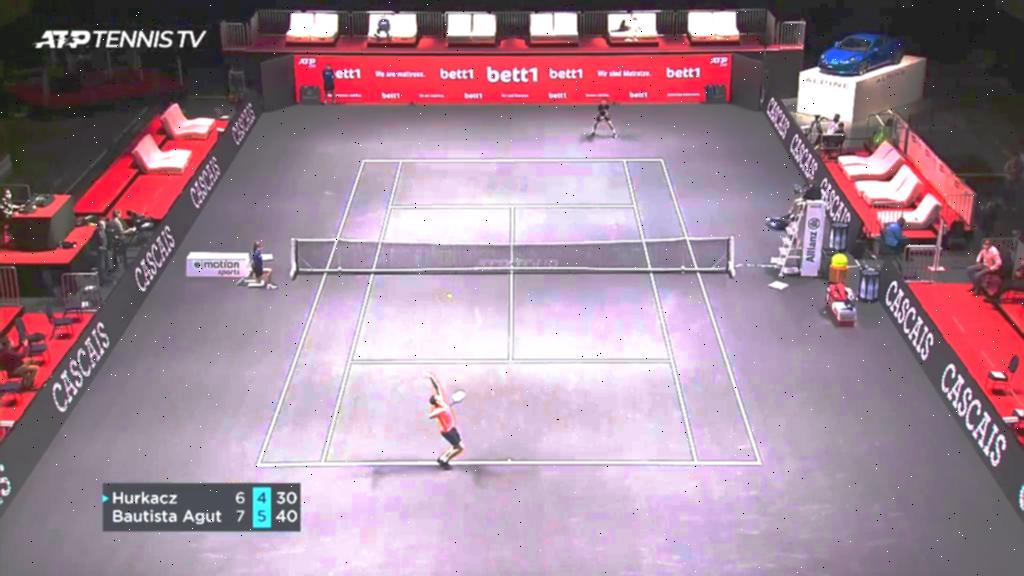tennis-court: (256, 158, 762, 466)
